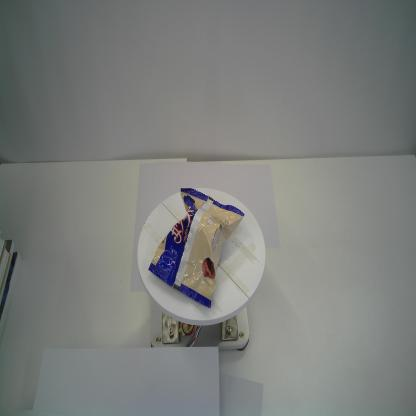Dessert: (146, 186, 245, 309)
